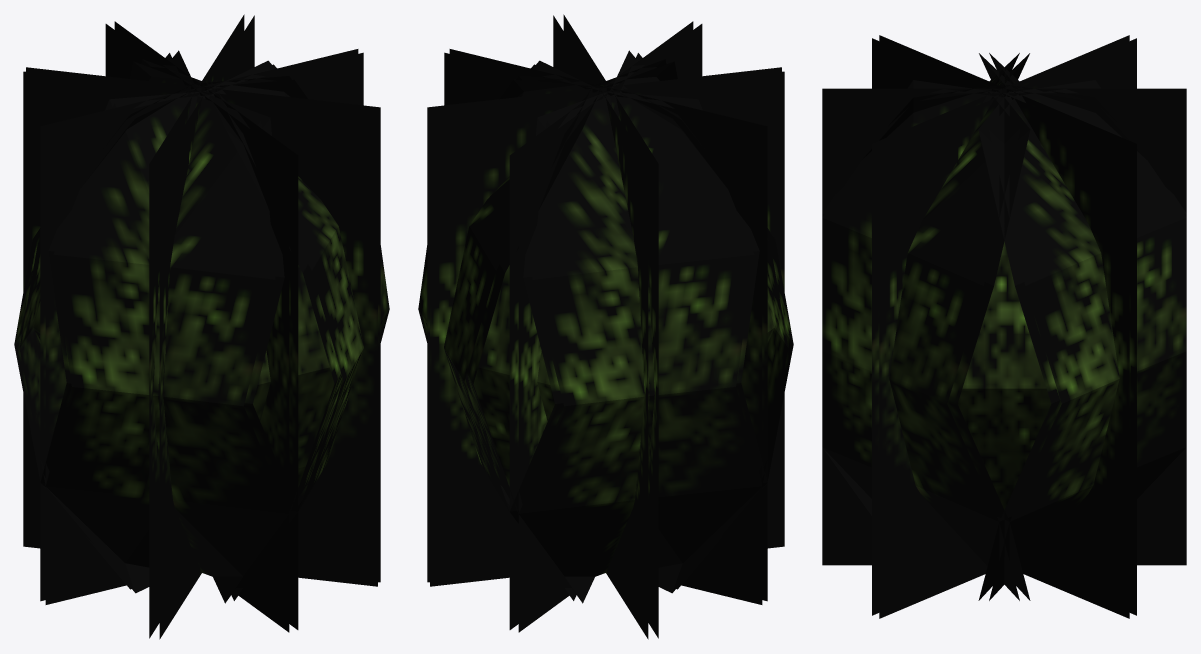
File: bush07.gltf
3 renders of one model, left to right at view 1: azimuth 30°, elevation 25°; view 2: azimuth 150°, elevation 25°; view 3: azimuth 270°, elevation 25°, orthographic.
Parts seen in each view (by area): view 1: bush7; view 2: bush7; view 3: bush7.
Part boxes in pixels (bbox=[...]): bush7: bbox=[14, 14, 389, 639]; bush7: bbox=[418, 14, 793, 639]; bush7: bbox=[822, 35, 1186, 618].
Bounding box in the file's own units: 0.7 × 1 × 0.7.
1 material, 1 textured.
